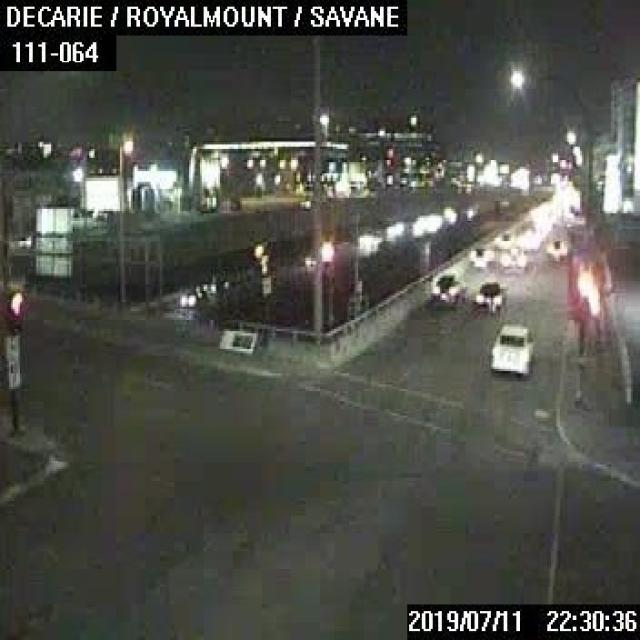vehicle: (490, 321, 533, 375), (432, 273, 466, 305), (474, 281, 503, 310), (468, 244, 494, 268), (499, 245, 526, 268), (544, 238, 567, 261), (178, 290, 196, 306)
